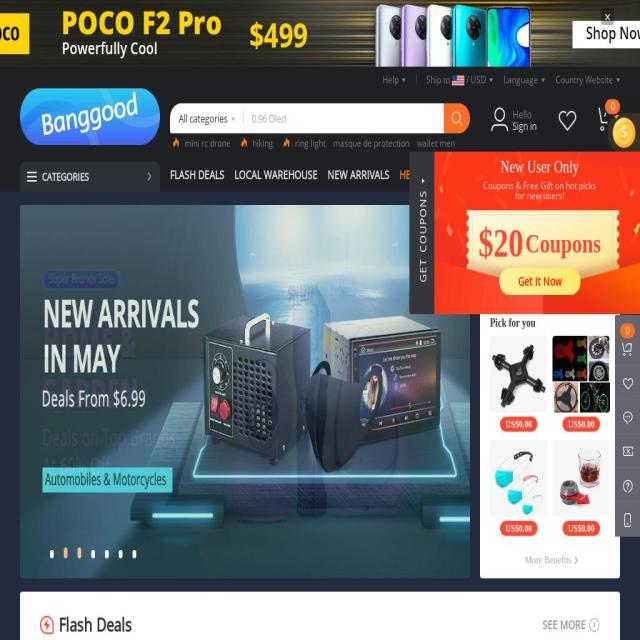button: (20, 205, 470, 578), (0, 0, 640, 67), (434, 152, 640, 314), (490, 242, 610, 306), (490, 336, 548, 436), (552, 336, 610, 436), (490, 440, 548, 540), (552, 440, 610, 540), (20, 162, 160, 192), (36, 98, 144, 134), (389, 160, 489, 190), (225, 160, 318, 190), (318, 160, 390, 190), (160, 160, 224, 190), (542, 616, 600, 640), (524, 552, 576, 568), (592, 107, 622, 131), (512, 110, 550, 118)
field: (244, 104, 444, 134), (444, 104, 470, 134)
heading: (20, 87, 160, 145), (36, 98, 144, 134), (490, 218, 610, 235), (59, 612, 132, 636), (417, 179, 494, 196)
iframe: (0, 0, 640, 640)
image: (0, 191, 640, 640), (20, 205, 470, 578), (0, 0, 640, 67), (490, 440, 548, 517), (552, 440, 610, 517), (490, 336, 548, 412), (552, 336, 610, 412), (607, 96, 640, 153), (452, 75, 464, 86), (172, 136, 178, 146), (241, 136, 247, 146), (283, 136, 289, 146), (64, 545, 68, 558)
link: (434, 152, 640, 175), (333, 136, 409, 150), (170, 152, 232, 166), (293, 152, 341, 166), (184, 136, 230, 150), (240, 152, 286, 166), (417, 136, 455, 150), (295, 136, 326, 150), (512, 118, 537, 134), (604, 97, 621, 116), (253, 136, 273, 150)
text: (478, 221, 550, 265), (525, 228, 601, 258), (483, 178, 596, 192), (179, 103, 244, 127), (499, 285, 601, 300), (490, 318, 610, 329), (498, 252, 556, 268), (615, 536, 640, 572), (615, 433, 640, 468), (615, 365, 640, 399), (615, 399, 640, 433), (615, 468, 640, 502), (615, 502, 640, 536), (556, 72, 613, 86), (517, 273, 562, 289), (542, 616, 586, 632), (515, 188, 564, 202), (524, 553, 572, 566), (500, 416, 538, 432), (562, 416, 600, 432), (500, 521, 538, 536), (562, 521, 600, 536), (504, 72, 538, 86), (499, 268, 528, 284), (426, 72, 450, 86), (466, 72, 486, 86), (382, 72, 398, 86), (601, 8, 614, 25), (620, 324, 635, 338)
